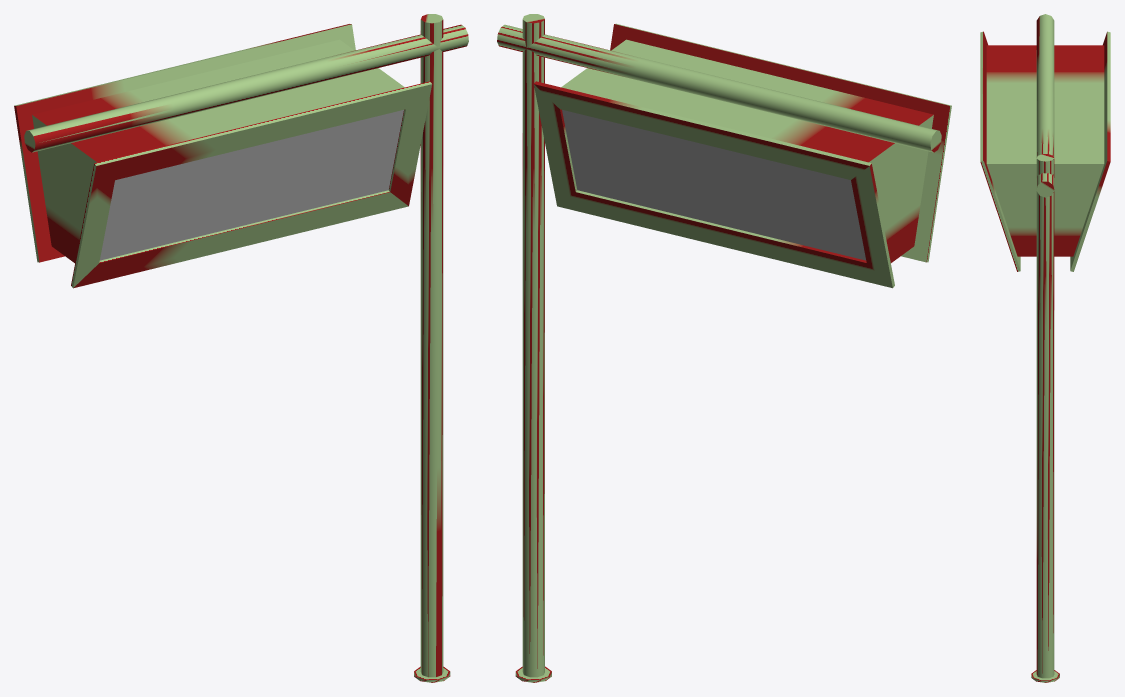
File: SM_Transport_Tablo.FBX
3 views of the same model, side by side, from view 1: azimuth 30°, elevation 25°; view 2: azimuth 150°, elevation 25°; view 3: azimuth 270°, elevation 25° (orthographic). The views are drawn at different scales.
Visible parts, largest first — view 1: SM_Transport_Tablo_v01; view 2: SM_Transport_Tablo_v01; view 3: SM_Transport_Tablo_v01.
Boxes of the visible parts, x1,y1,x2,y2 form: SM_Transport_Tablo_v01: (14, 14, 468, 682); SM_Transport_Tablo_v01: (497, 14, 951, 682); SM_Transport_Tablo_v01: (980, 14, 1110, 682).
Bounding box in the file's own units: 1.93 × 2.8 × 0.6368.
